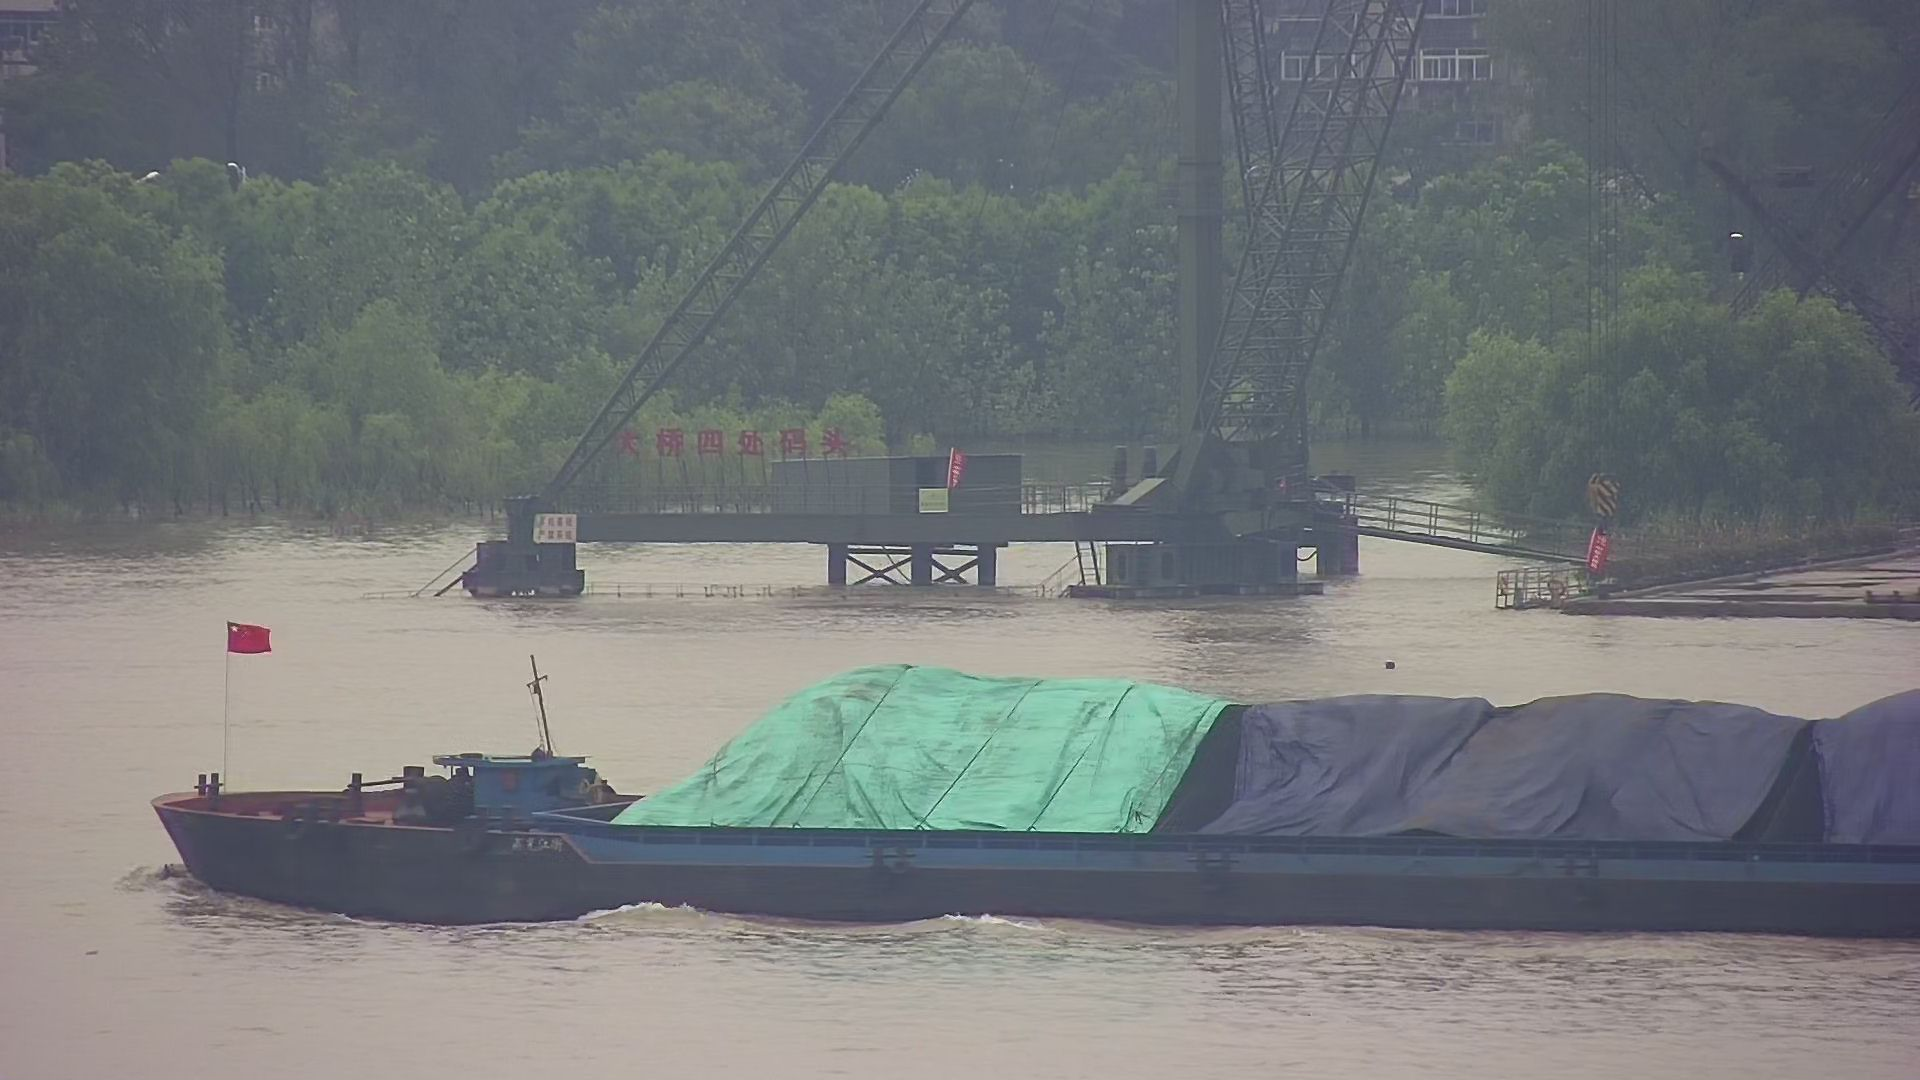platform: (396, 7, 1447, 615)
rubbish: (1379, 653, 1408, 674)
ship: (141, 608, 1920, 969)
